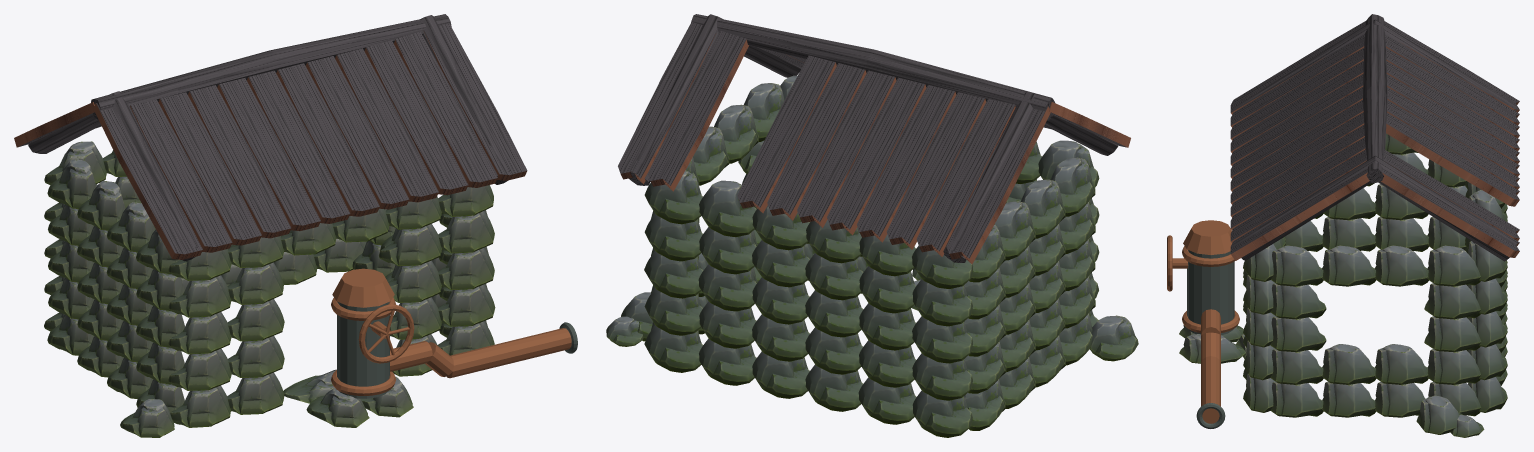
Rendered from Woodland_Pump_House_Barren.glb.
3 views of the same model, side by side, from view 1: azimuth 30°, elevation 25°; view 2: azimuth 150°, elevation 25°; view 3: azimuth 270°, elevation 25° (orthographic). The views are drawn at different scales.
Visible parts, largest first — view 1: Structure; view 2: Structure; view 3: Structure.
Part boxes in pixels (x1,y1,x2,y2): Structure: (14,14,577,437); Structure: (606,14,1138,437); Structure: (1167,14,1519,437).
Size of the model in its own units: 5.19 by 3.53 by 4.3.
5 materials, 3 textured.
